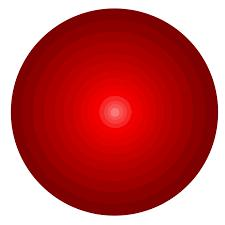red_circle: (1, 0, 225, 225)
